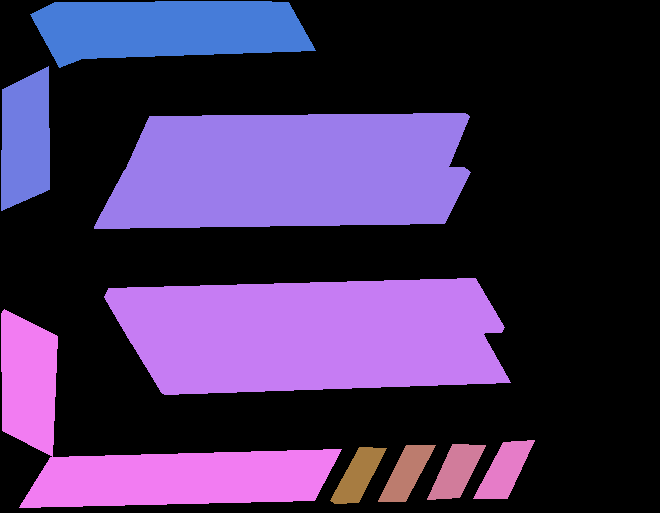parkingspot: (104, 278, 504, 343), (129, 327, 510, 394), (94, 167, 470, 228), (123, 113, 469, 174), (30, 1, 315, 67), (19, 449, 341, 507), (1, 309, 57, 456), (1, 66, 49, 210), (473, 440, 534, 498), (378, 445, 435, 501), (427, 444, 485, 499), (330, 447, 386, 503)
